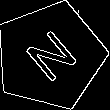N_SE: (18, 24, 83, 88)
